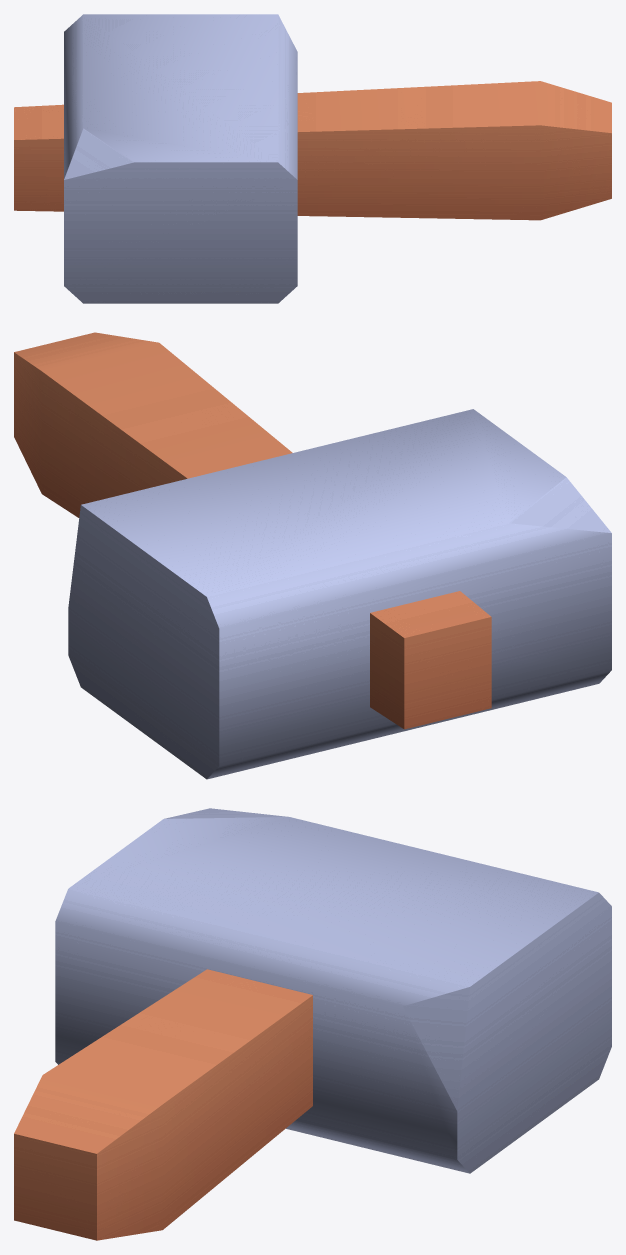
The model's file is hammer.001_lev3.glb.
3 renders of one model, top to bottom at view 1: azimuth 30°, elevation 25°; view 2: azimuth 150°, elevation 25°; view 3: azimuth 270°, elevation 25°, orthographic. The views are drawn at different scales.
Parts seen in each view (by area): view 1: hammer.001_lev3; view 2: hammer.001_lev3; view 3: hammer.001_lev3.
Part boxes in pixels (<box>): hammer.001_lev3: <box>14,14,611,303</box>; hammer.001_lev3: <box>14,332,611,779</box>; hammer.001_lev3: <box>14,808,611,1240</box>.
Bounding box in the file's own units: 1.68 × 0.4481 × 1.3.
Materials: 1 (1 with a texture image).
